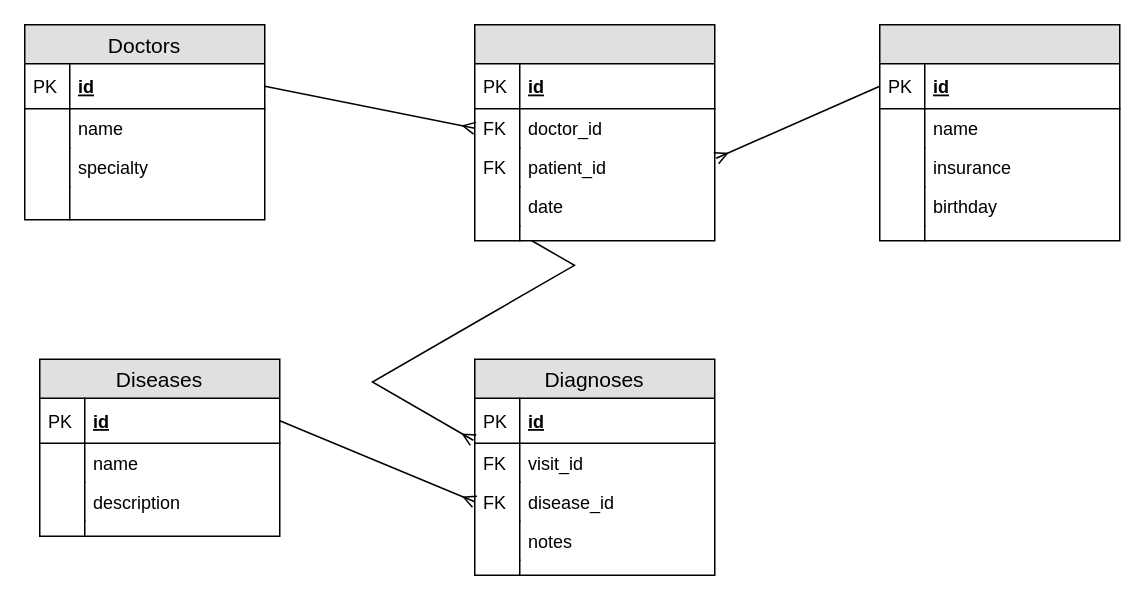
This 1145x600 diagram has some shape labels left out. The box of each missing label's shape, as (x1, y1, x2, y2) in pixels:
Patients: (878, 23, 1120, 241)
Visits: (473, 23, 715, 241)
